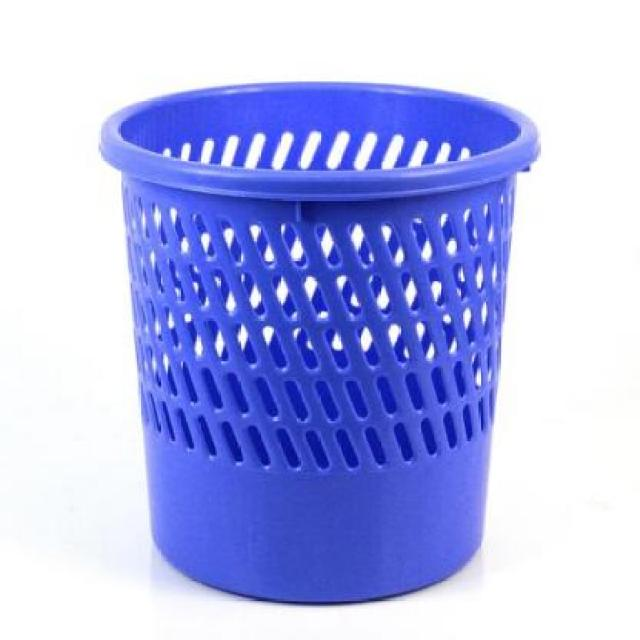dustbin: (92, 75, 545, 611)
